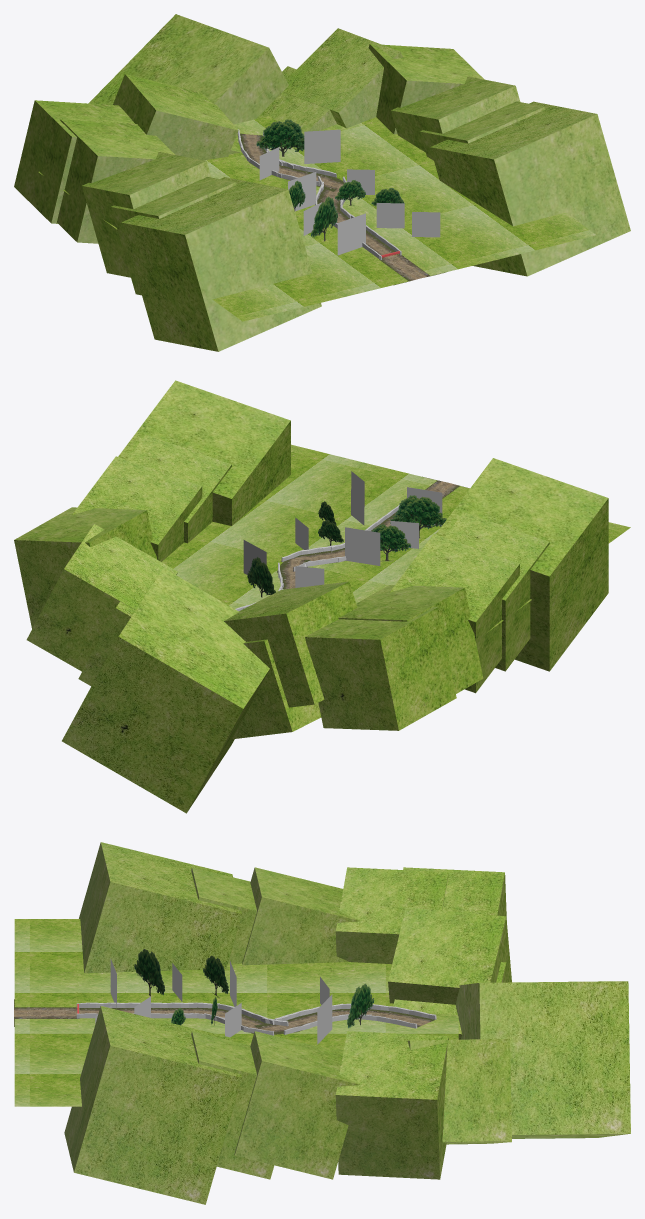
The model's file is 1_Minigame 1.fbx.
3 renders of one model, top to bottom at view 1: azimuth 30°, elevation 25°; view 2: azimuth 150°, elevation 25°; view 3: azimuth 270°, elevation 25°, orthographic. The views are drawn at different scales.
Parts seen in each view (by area): view 1: Plane.002, Cube.010, Cube.011, Cube.006, Cube.002, Cube.005, Cube.007, Cube.001, Cube.008, Cube.014, Cube.013, Cube.009 (+14 smaller); view 2: Cube.006, Plane.002, Cube.010, Cube.001, Cube.011, Cube.005, Cube.002, Cube.008, Cube.014, Cube.013, Cube.007, Cube.009 (+9 smaller); view 3: Plane.002, Cube.011, Cube.006, Cube.010, Cube.014, Cube.013, Cube.002, Cube.008, Cube.007, Cube.005, Cube.012, Plane.001 (+9 smaller).
Part boxes in pixels (x1,y1,x2,y2): Plane.002: [38, 116, 596, 321]; Cube.010: [121, 177, 321, 351]; Cube.011: [430, 101, 630, 276]; Cube.006: [88, 14, 288, 124]; Cube.002: [113, 74, 238, 160]; Cube.005: [283, 28, 403, 128]; Cube.007: [57, 119, 175, 243]; Cube.001: [14, 100, 134, 223]; Cube.008: [82, 152, 211, 277]; Cube.014: [368, 44, 484, 134]; Cube.013: [391, 76, 520, 152]; Cube.009: [111, 176, 236, 295]; Cube.006: [62, 568, 269, 813]; Plane.002: [162, 444, 630, 681]; Cube.010: [436, 458, 608, 671]; Cube.001: [305, 607, 456, 730]; Cube.011: [118, 380, 290, 525]; Cube.005: [26, 524, 177, 671]; Cube.002: [224, 581, 357, 707]; Cube.008: [390, 534, 519, 693]; Cube.014: [14, 507, 157, 628]; Cube.013: [72, 456, 202, 561]; Cube.007: [338, 585, 483, 693]; Cube.009: [444, 512, 549, 671]; Plane.002: [14, 919, 458, 1106]; Cube.011: [64, 1006, 241, 1204]; Cube.006: [455, 981, 630, 1138]; Cube.010: [79, 842, 241, 973]; Cube.014: [335, 1031, 448, 1179]; Cube.013: [234, 1031, 359, 1179]; Cube.002: [388, 907, 511, 1004]; Cube.008: [242, 867, 359, 965]; Cube.007: [335, 867, 448, 964]; Cube.005: [407, 1038, 511, 1142]; Cube.012: [191, 1031, 274, 1179]; Plane.001: [79, 1002, 436, 1035].
Size of the model in its own units: 33777 by 14759 by 38034.
